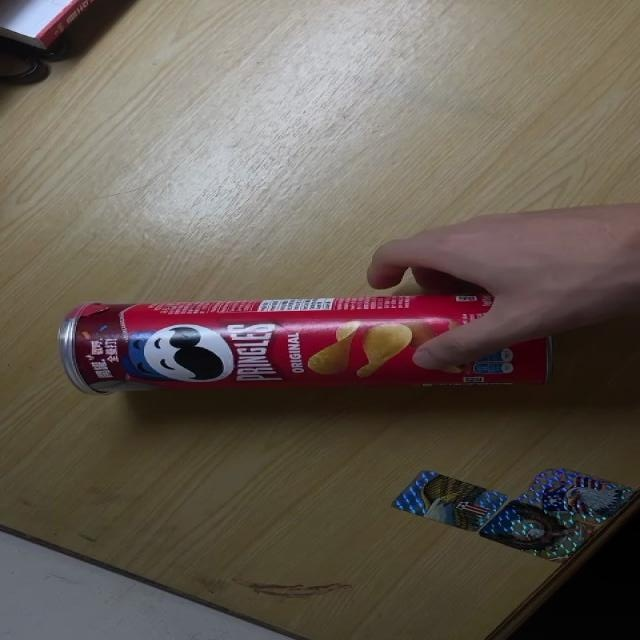Pringles: (52, 294, 558, 395)
